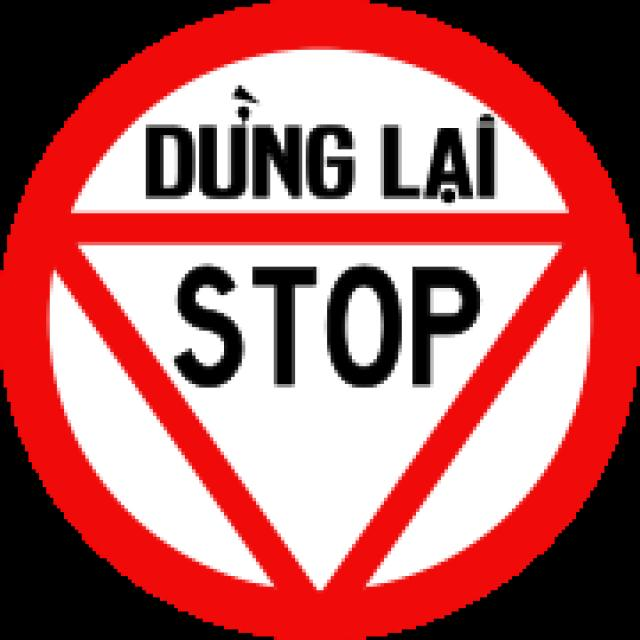Traffic sign: (39, 36, 592, 591)
